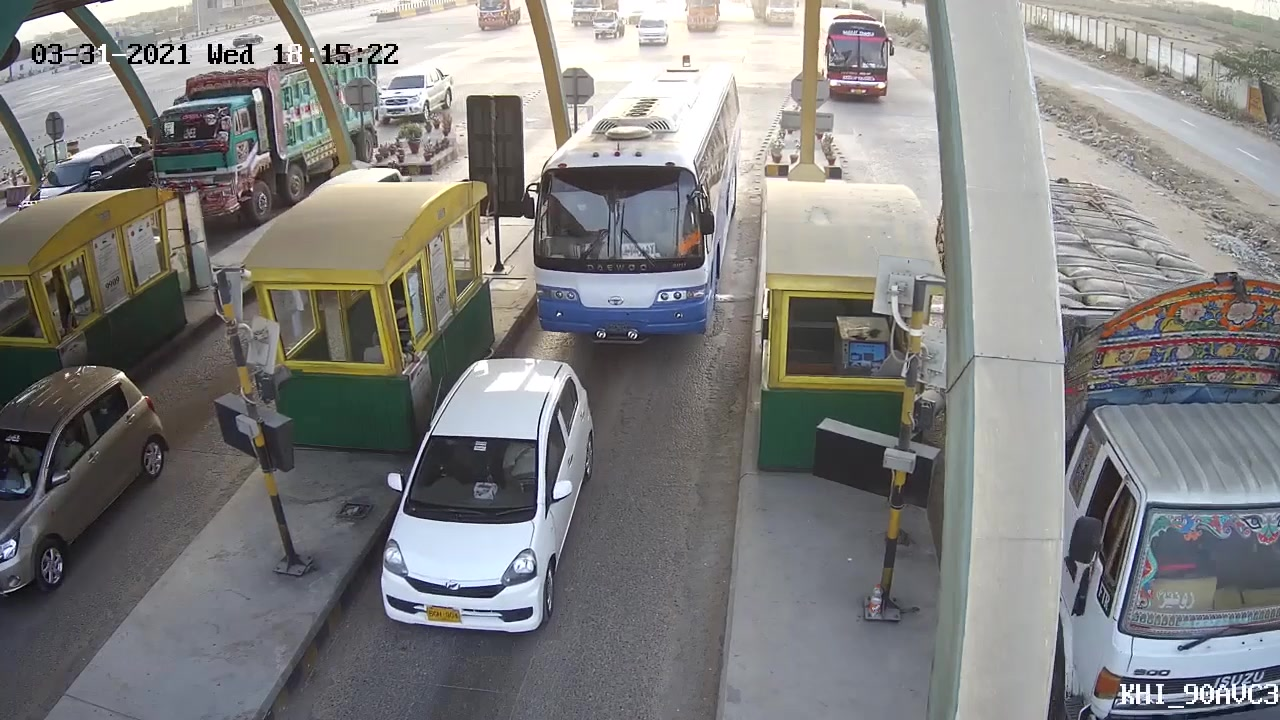F1: (366, 360, 601, 634)
F4: (524, 70, 742, 343)
